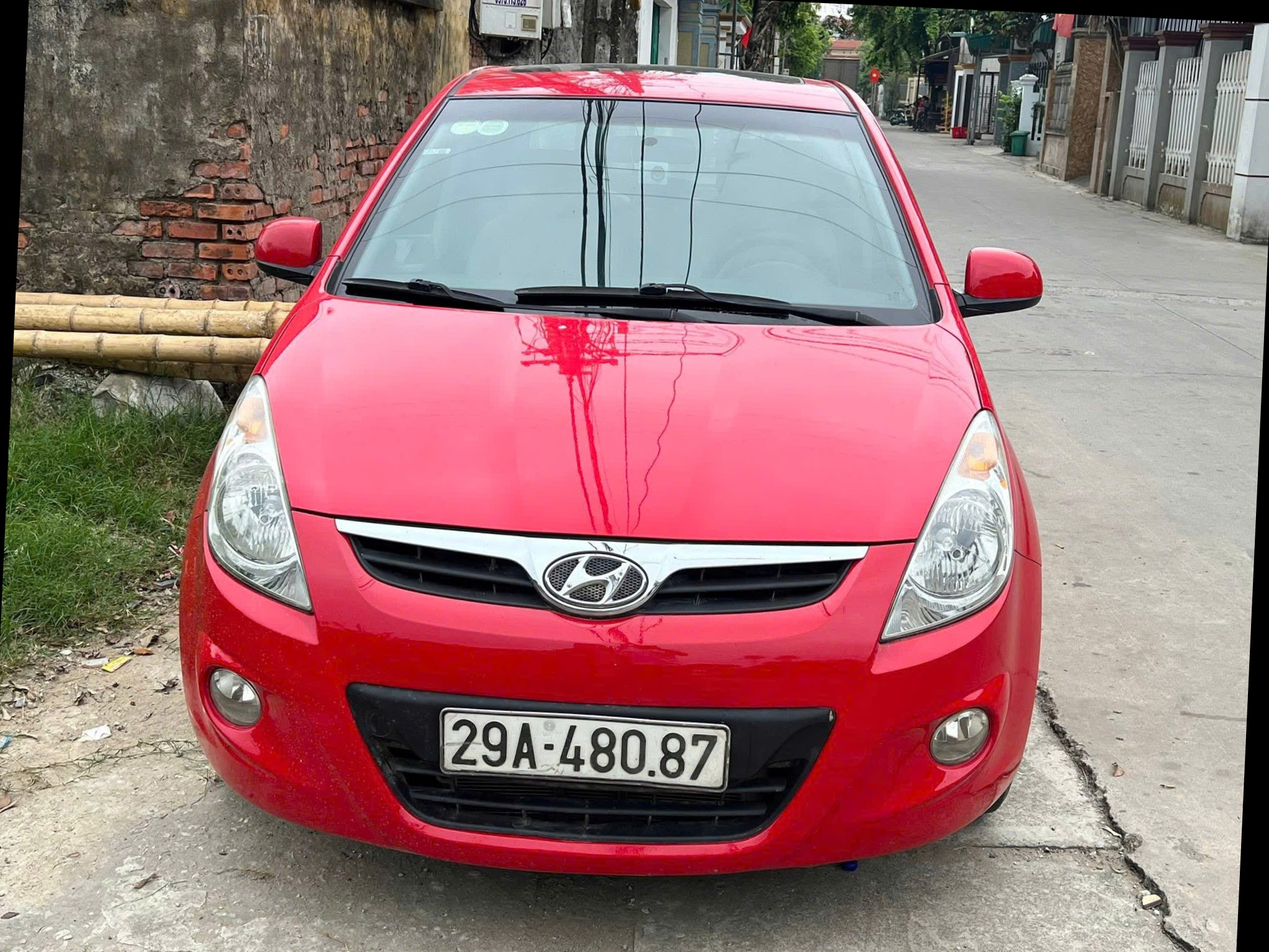Bien-so: (454, 704, 746, 786)
